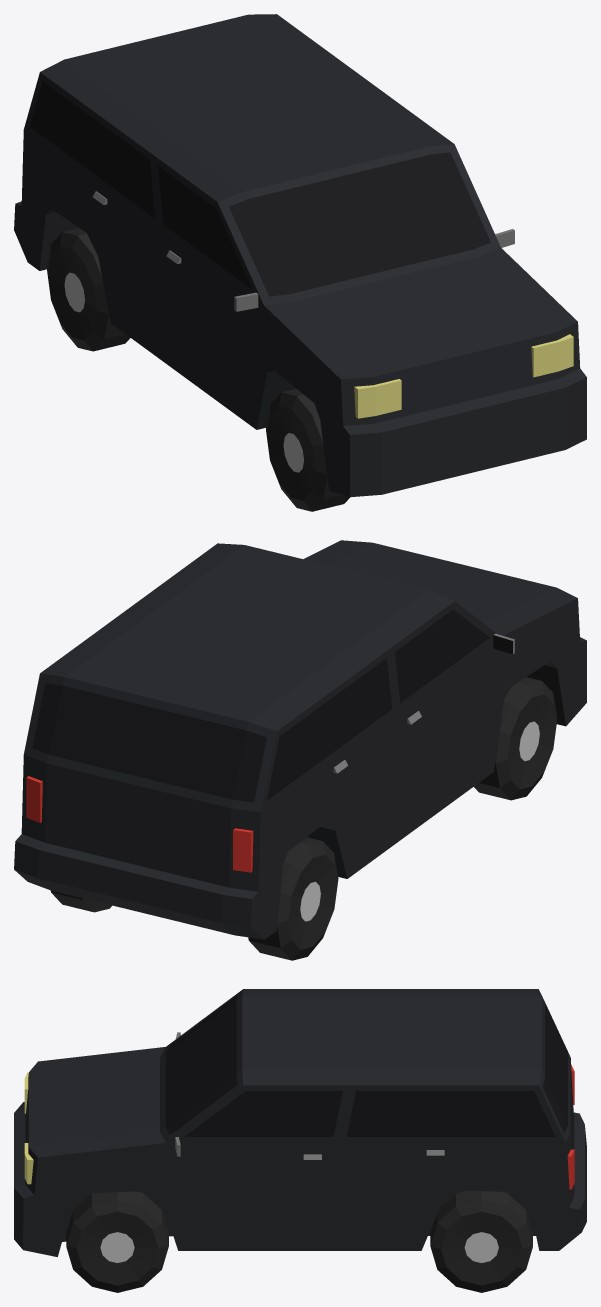
Rendered from SUV_01.fbx.
3 views of the same model, one above another, from view 1: azimuth 30°, elevation 25°; view 2: azimuth 150°, elevation 25°; view 3: azimuth 270°, elevation 25° (orthographic). The views are drawn at different scales.
Visible parts, largest first — view 1: SUV_01; view 2: SUV_01; view 3: SUV_01.
Boxes of the visible parts, x1,y1,x2,y2 form: SUV_01: (14, 14, 586, 511); SUV_01: (14, 540, 586, 960); SUV_01: (14, 989, 586, 1292).
Size of the model in its own units: 3.42 by 3.01 by 7.33.
